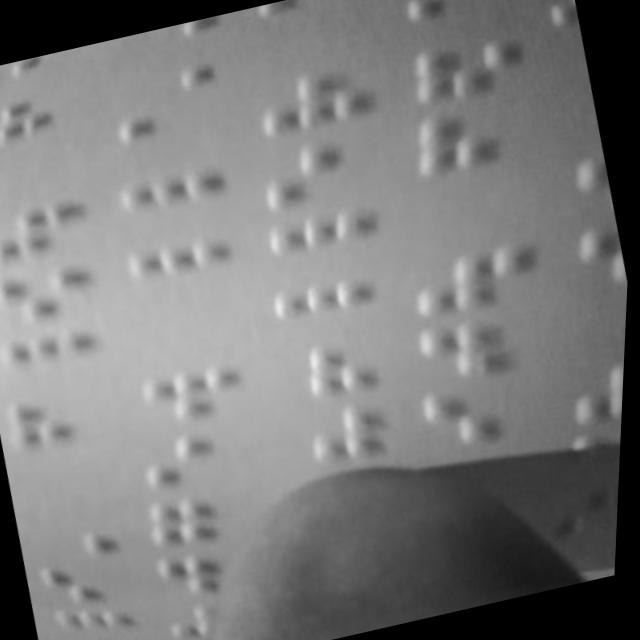braiile: (418, 372, 565, 471), (411, 298, 557, 394), (405, 234, 546, 325), (406, 95, 542, 184), (245, 60, 376, 150), (257, 133, 383, 219), (138, 348, 262, 433), (404, 32, 531, 114), (140, 416, 268, 497), (269, 272, 389, 356), (267, 202, 386, 286), (125, 228, 237, 310), (115, 164, 228, 243), (109, 99, 220, 176), (0, 322, 108, 400), (2, 381, 109, 457), (0, 254, 99, 331), (0, 194, 96, 273), (0, 78, 96, 156), (393, 0, 517, 53)
